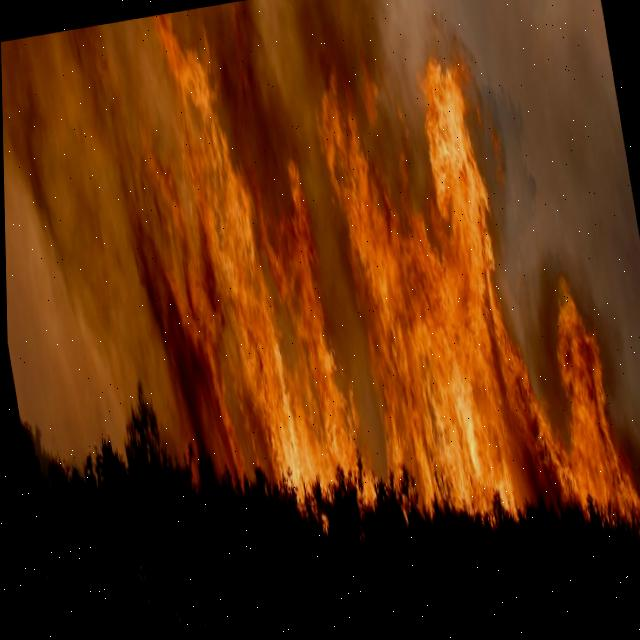fire: (139, 15, 640, 536)
smoke: (1, 0, 640, 495)
